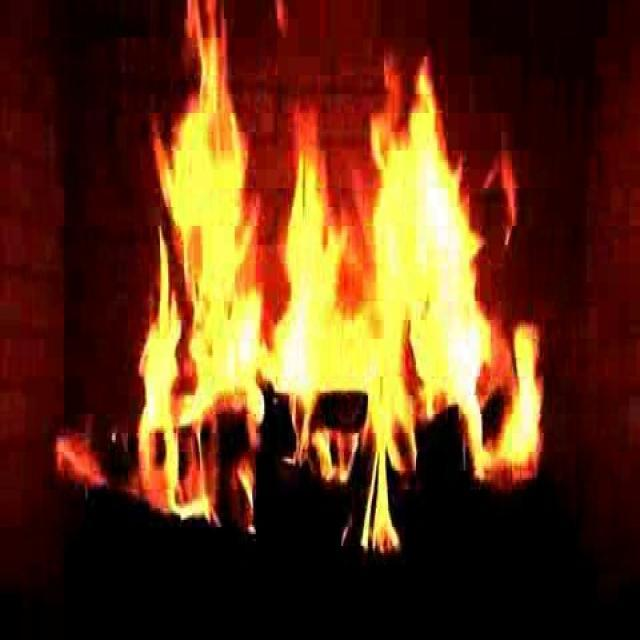Fire: (140, 0, 551, 531)
